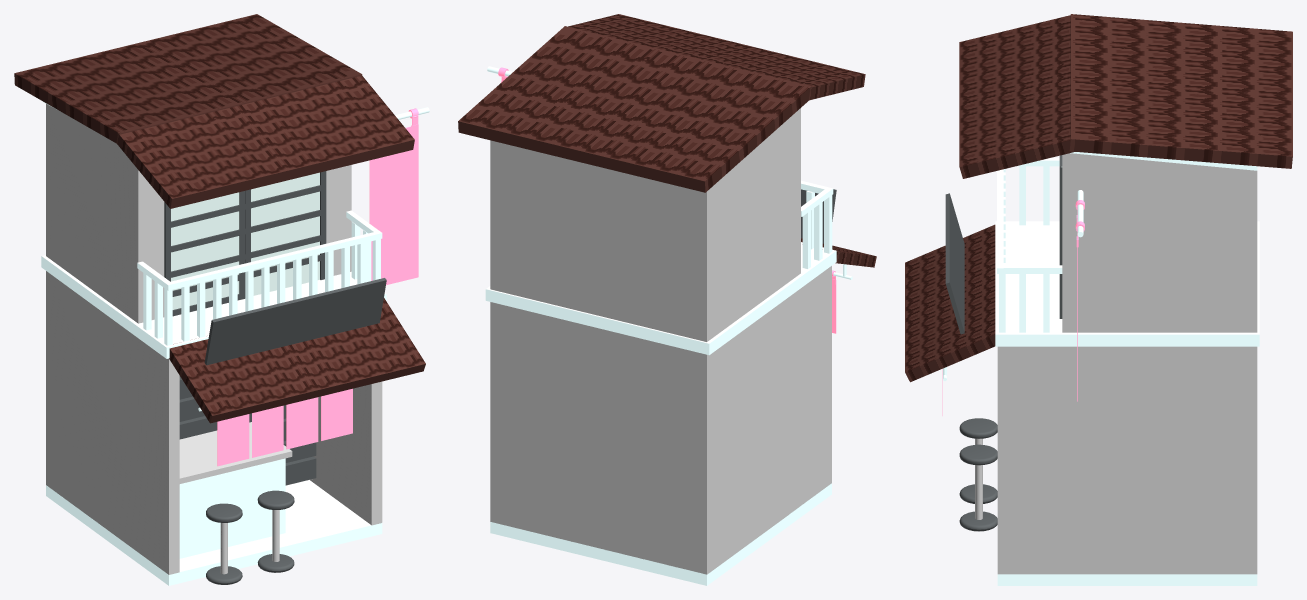
File: Building_SmallRestaurant.fbx
3 renders of one model, left to right at view 1: azimuth 30°, elevation 25°; view 2: azimuth 150°, elevation 25°; view 3: azimuth 270°, elevation 25°, orthographic. The views are drawn at different scales.
Parts seen in each view (by area): view 1: Plane.002; view 2: Plane.002; view 3: Plane.002.
Part boxes in pixels (x1,y1,x2,y2): Plane.002: (14, 14, 429, 585); Plane.002: (458, 14, 876, 585); Plane.002: (905, 14, 1292, 585).
Size of the model in its own units: 294 by 388 by 298.
